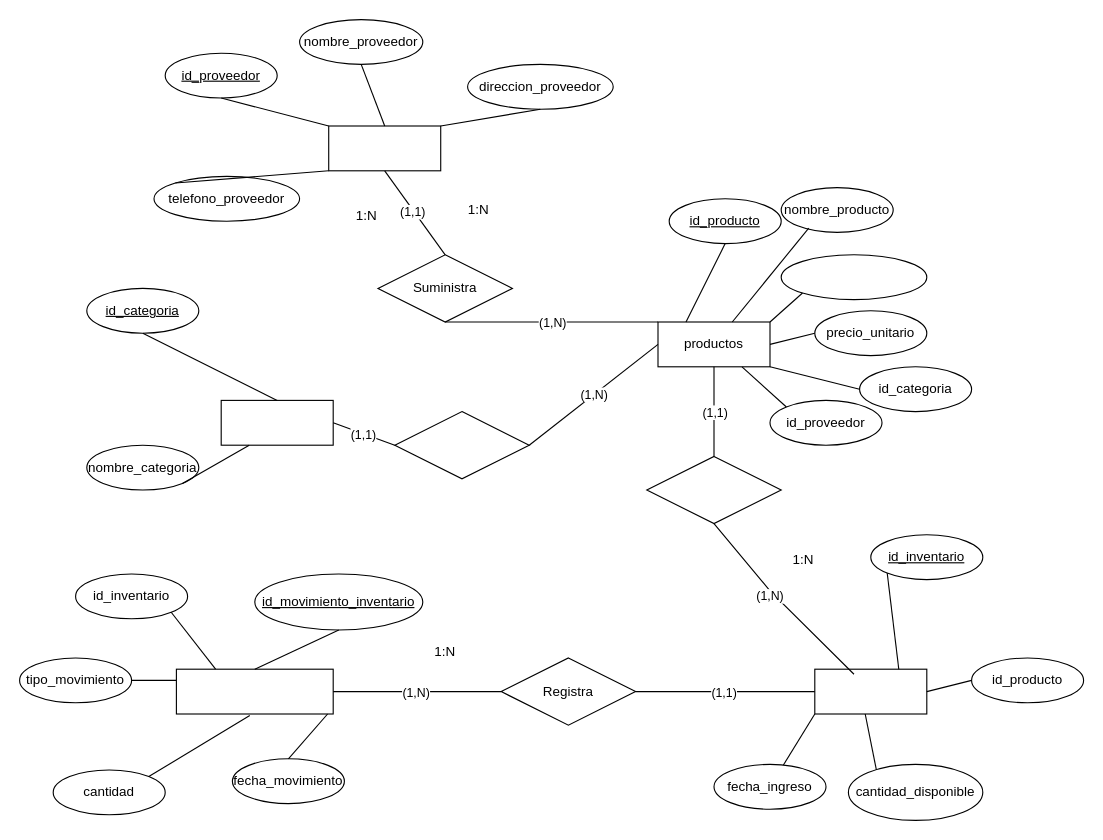
Image size: 1103x840. Some labels were removed from this diagram. Here are the shapes that lost their labels. From the top down, the centre of each, then its label:
point 384,148: proveedores
point 853,277: descripcion_producto
point 276,422: categorias
point 461,444: Tiene
point 713,489: Posee
point 254,691: movimiento_inventarios
point 870,691: Inventario
